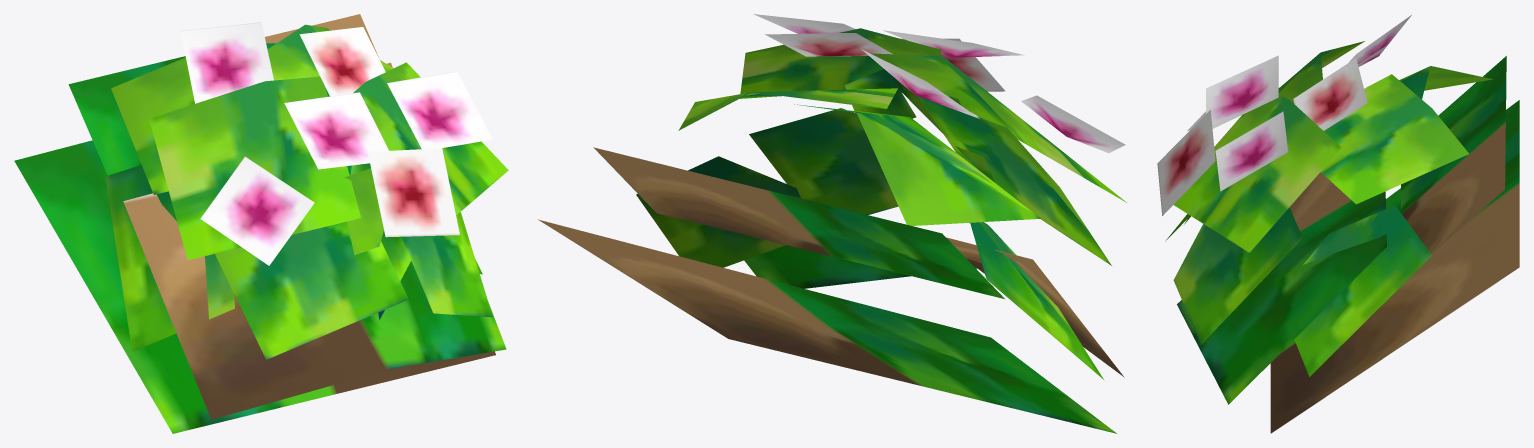
File: fg_bushB_2_wt.dae
3 views of the same model, side by side, from view 1: azimuth 30°, elevation 25°; view 2: azimuth 150°, elevation 25°; view 3: azimuth 270°, elevation 25° (orthographic). The views are drawn at different scales.
Parts seen in each view (by area): view 1: fg_bushB_2_wt; view 2: fg_bushB_2_wt; view 3: fg_bushB_2_wt.
Part boxes in pixels (box(x1,y1,x2,y2)): fg_bushB_2_wt: box(14, 14, 508, 433); fg_bushB_2_wt: box(538, 14, 1126, 433); fg_bushB_2_wt: box(1157, 15, 1519, 433).
Size of the model in its own units: 43.24 by 36.09 by 38.13.
1 material, 1 textured.
